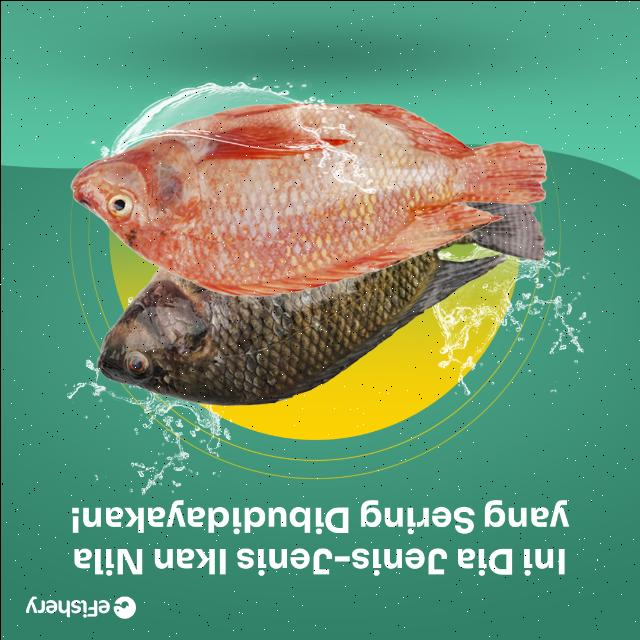Mulut: (23, 130, 117, 232), (68, 304, 142, 408)
Sirip Anal: (347, 87, 481, 167)
Sirip Dada: (200, 111, 368, 180)
Sirip Ekor: (455, 128, 561, 218)
Sirip Punggung: (261, 244, 511, 412), (197, 190, 503, 322)
